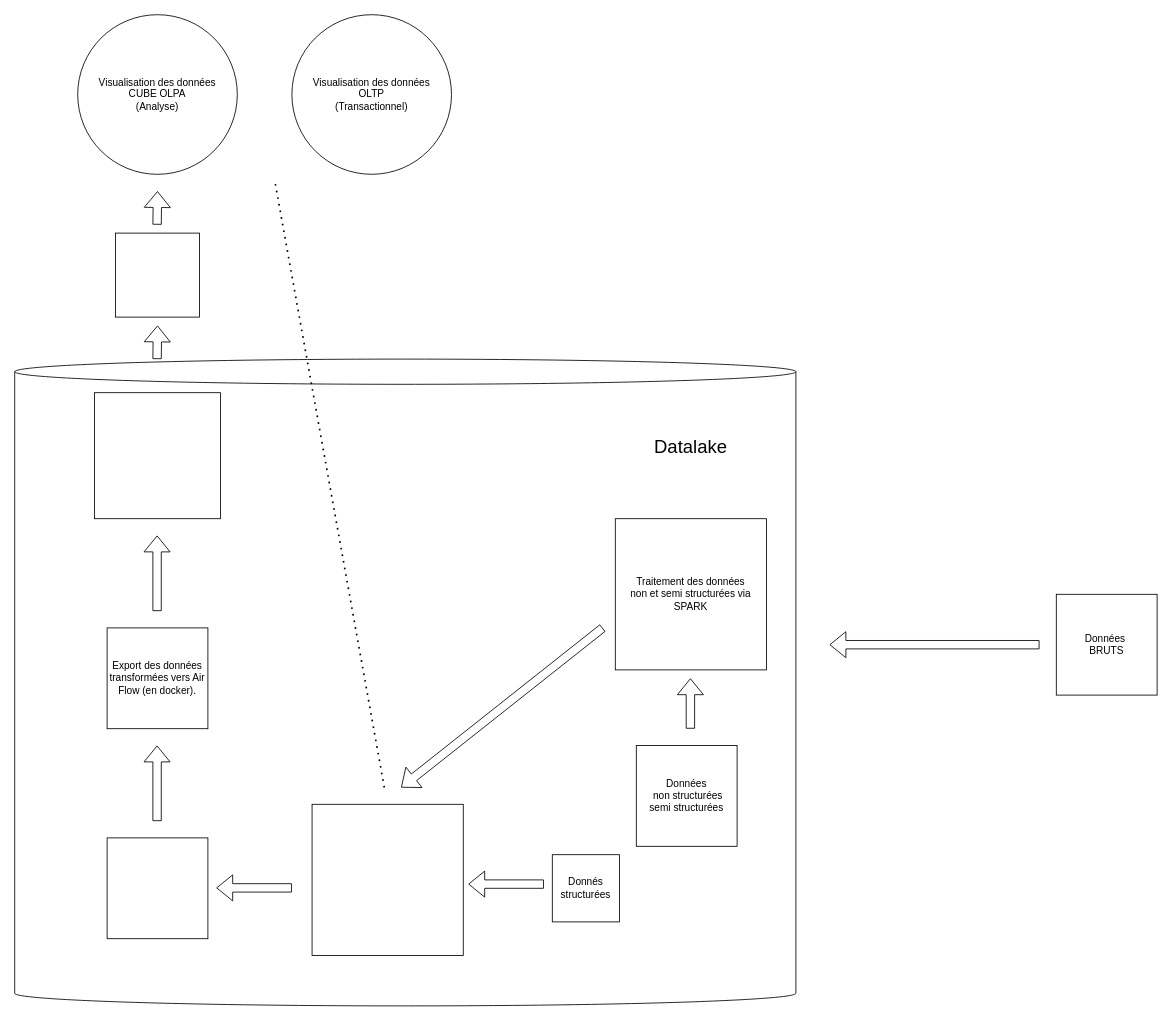
The diagram is 1172 pixels wide and 1021 high, and some of its shapes have lost their labels. Here are the shapes that lost their labels. From the top down, the centre of each, then its label:
point (157, 274): Visionnage des données avec Grafana
point (157, 455): Sauvegarde des données en "Cloud S3" sur un serveur de stockage MinIO (docker)
point (157, 888): Export (en format csv) en Local, des données transformées
point (387, 879): Traitement des données (Transformation) Power BI Power Query
